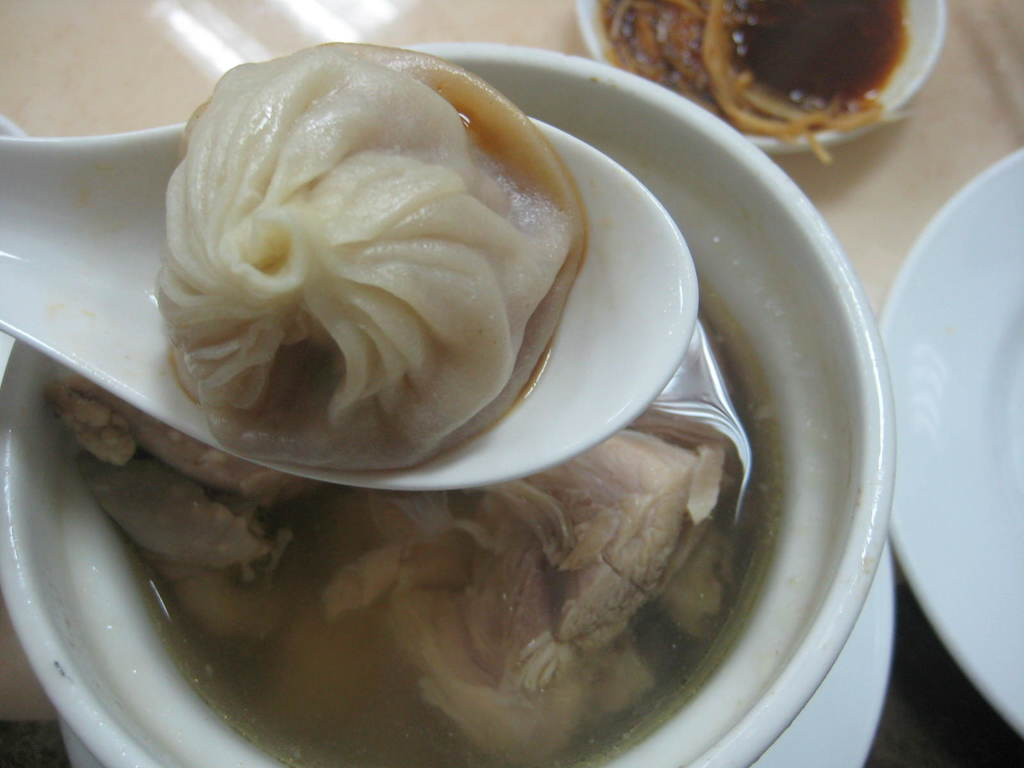plate: (878, 147, 1023, 736)
